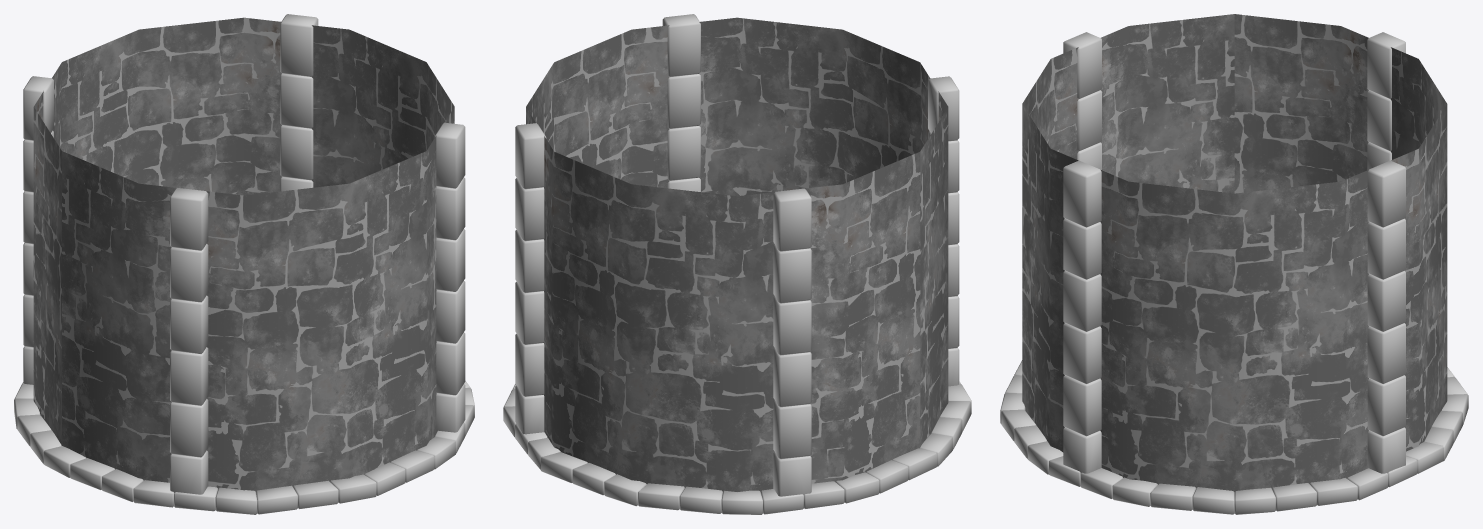
File: Tower_Wall_Mid.fbx
3 renders of one model, left to right at view 1: azimuth 30°, elevation 25°; view 2: azimuth 150°, elevation 25°; view 3: azimuth 270°, elevation 25°, orthographic.
Parts seen in each view (by area): view 1: Tower_Wall_Mid; view 2: Tower_Wall_Mid; view 3: Tower_Wall_Mid.
Part boxes in pixels (left/top/right/bottom): Tower_Wall_Mid: left=14, top=14, right=474, bottom=514; Tower_Wall_Mid: left=503, top=14, right=971, bottom=514; Tower_Wall_Mid: left=1000, top=14, right=1468, bottom=514.
Bounding box in the file's own units: 6.78 × 5 × 6.78.
